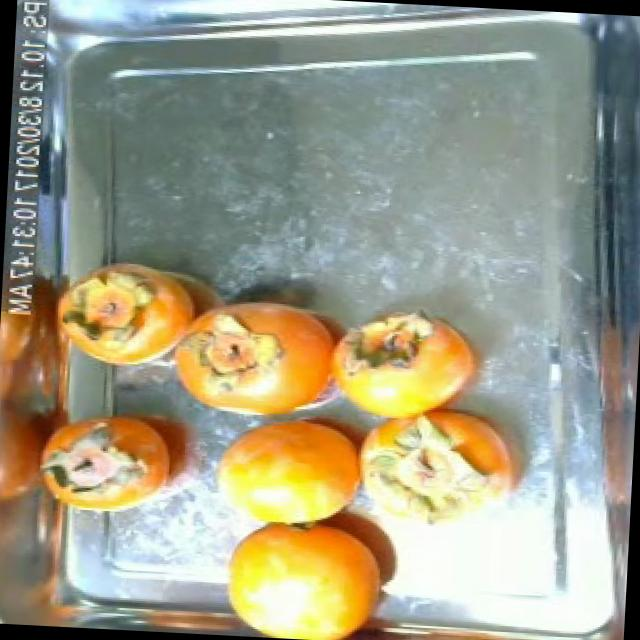Fruit: (201, 502, 402, 640), (192, 412, 384, 544)
